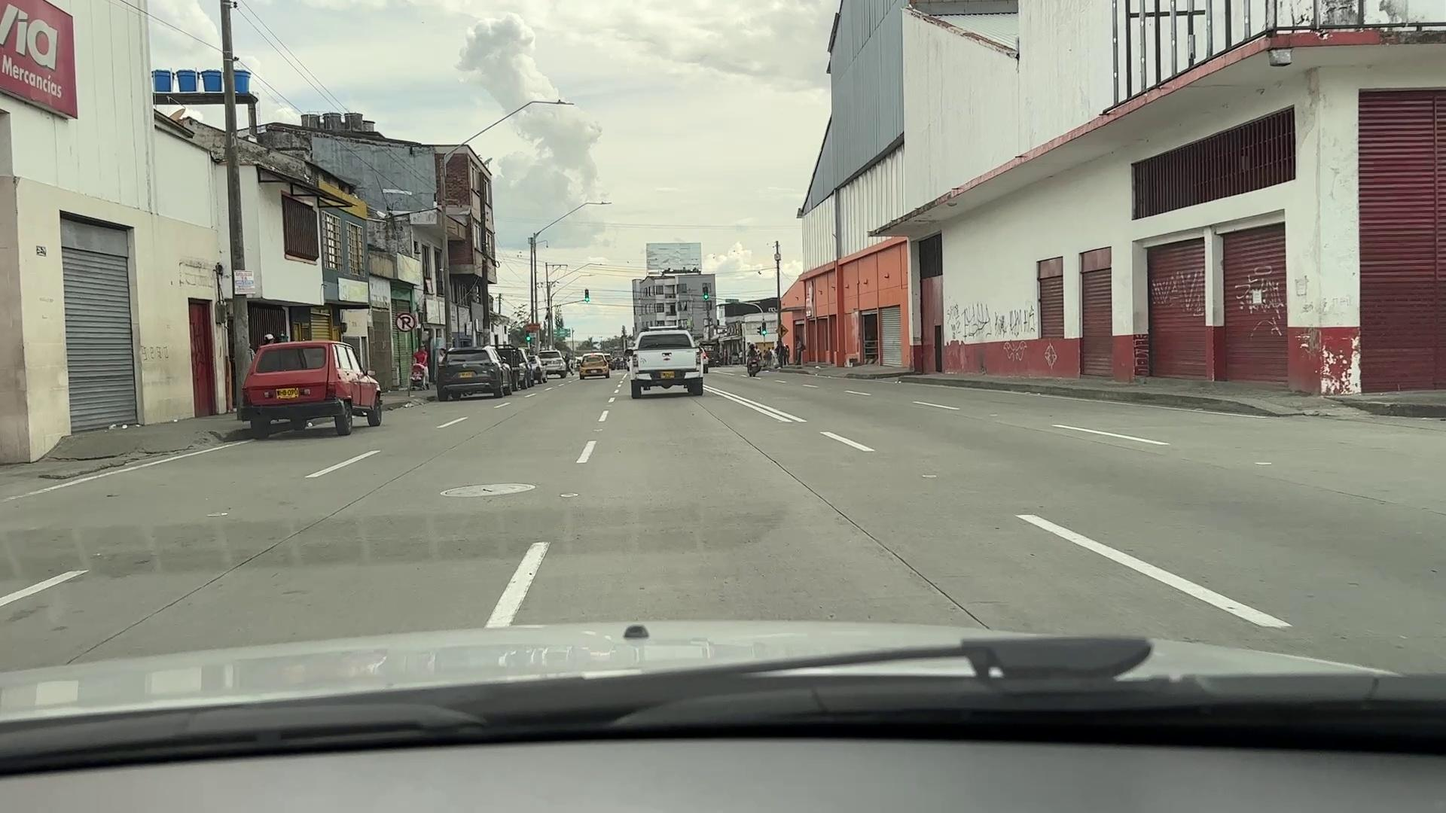registro: (440, 483, 536, 497)
